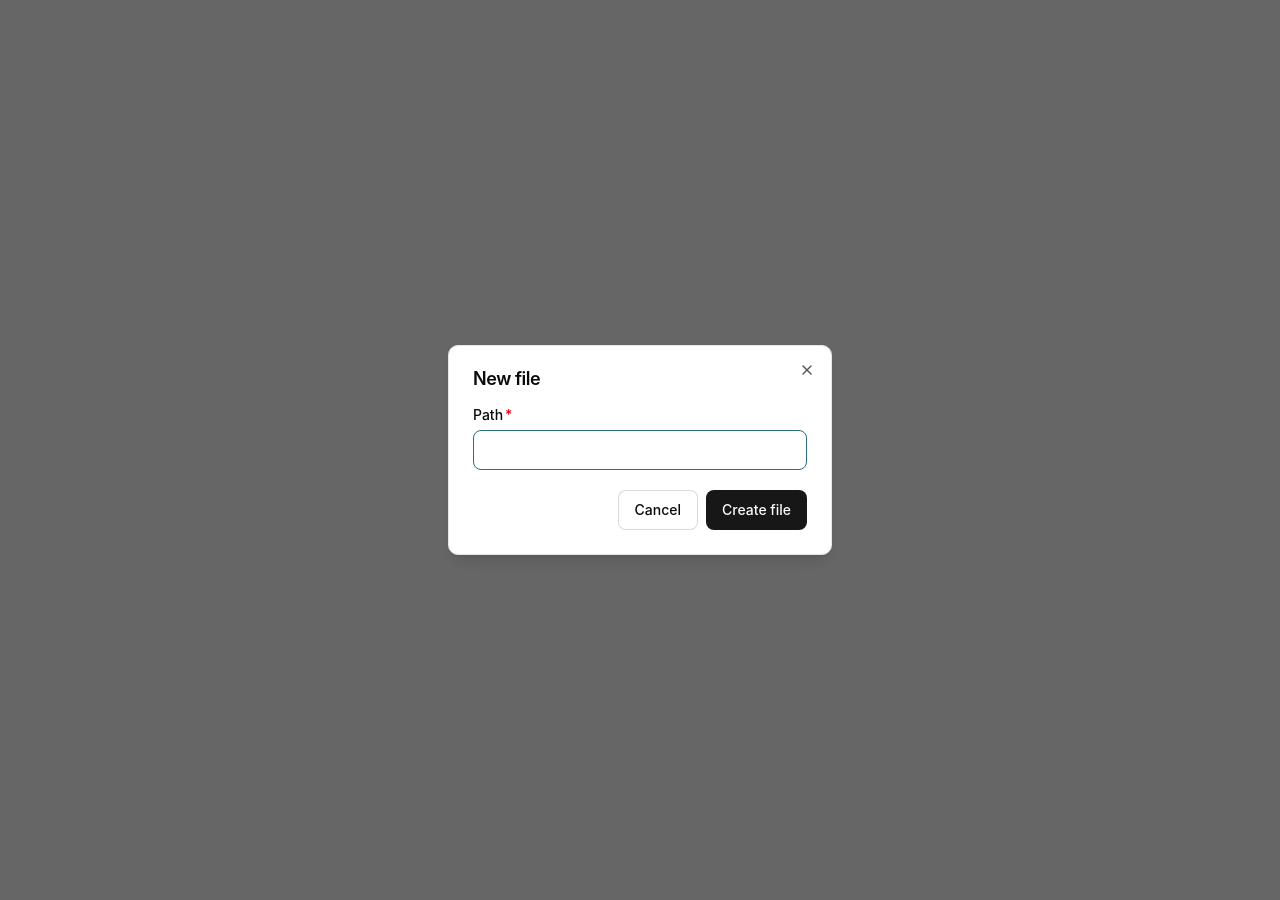
Test: PathPromptDialog › refuses an empty value and a value the caller rejects
Click the button "Create file" at (756, 510), box [706,490,807,530]
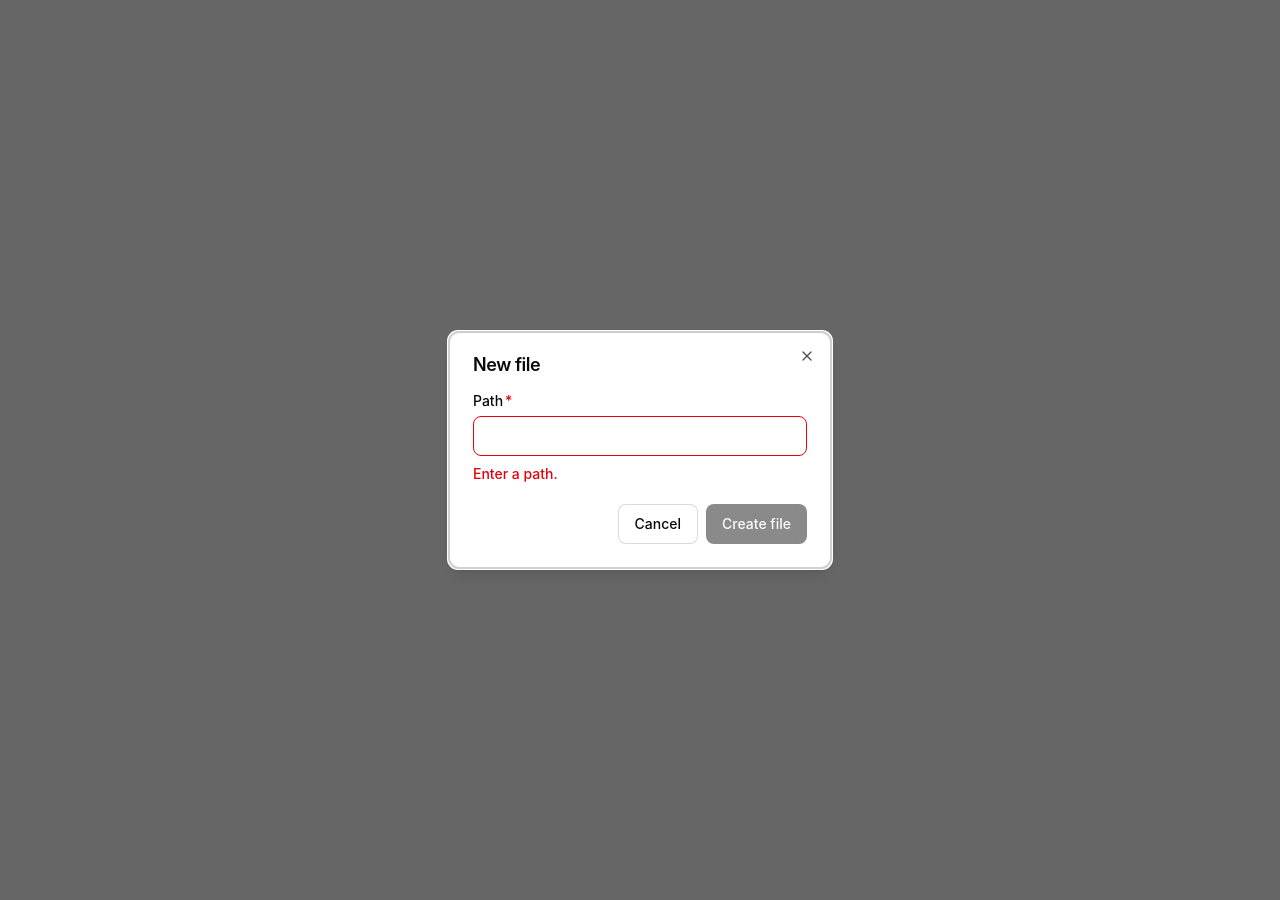
expect the text "Enter a path." is shown: met, box [473,465,558,482]
Type "bad name" into the field labelled "Path*" at (640, 436), box [473,416,807,456]
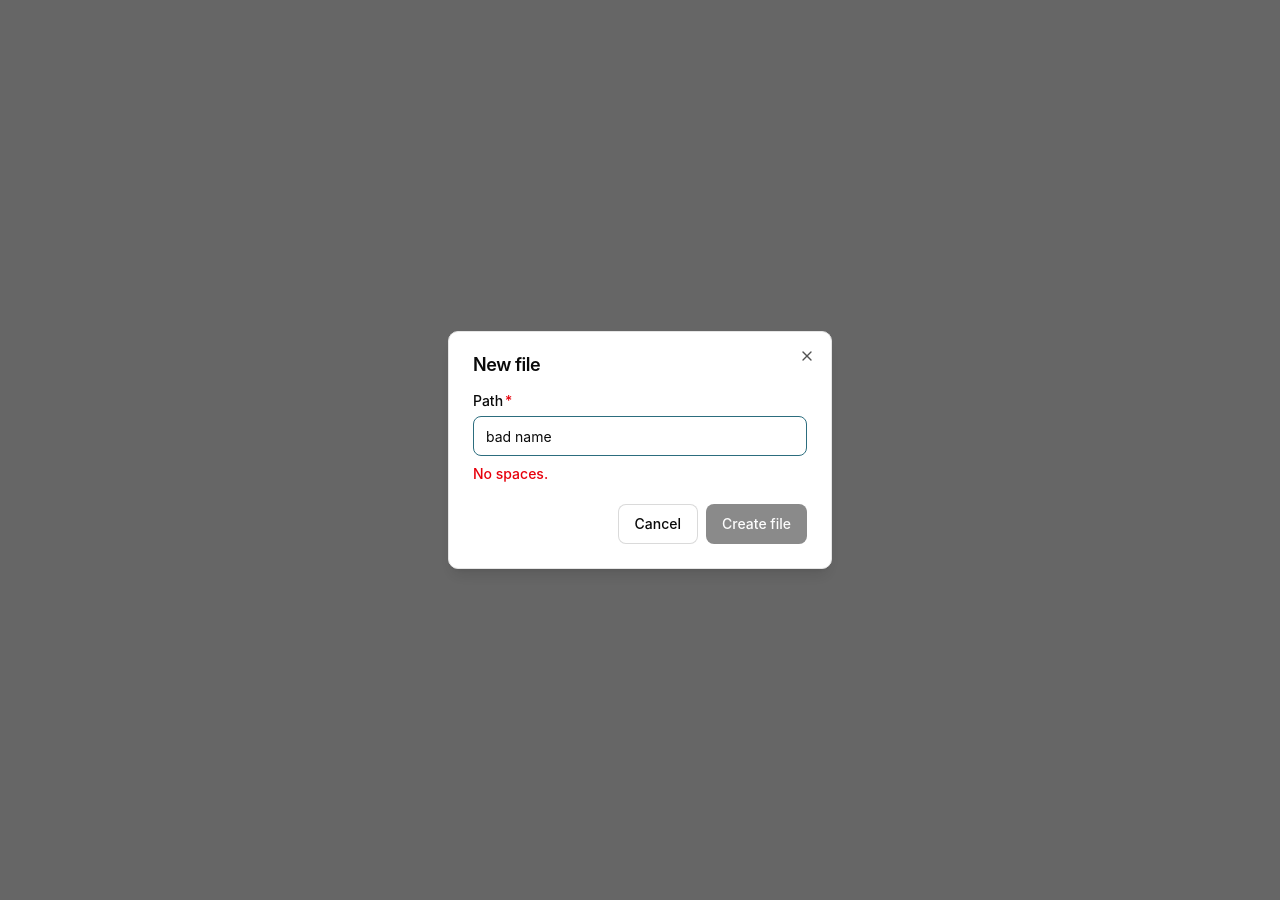
expect the text "No spaces." is shown: met, box [473,465,548,482]
